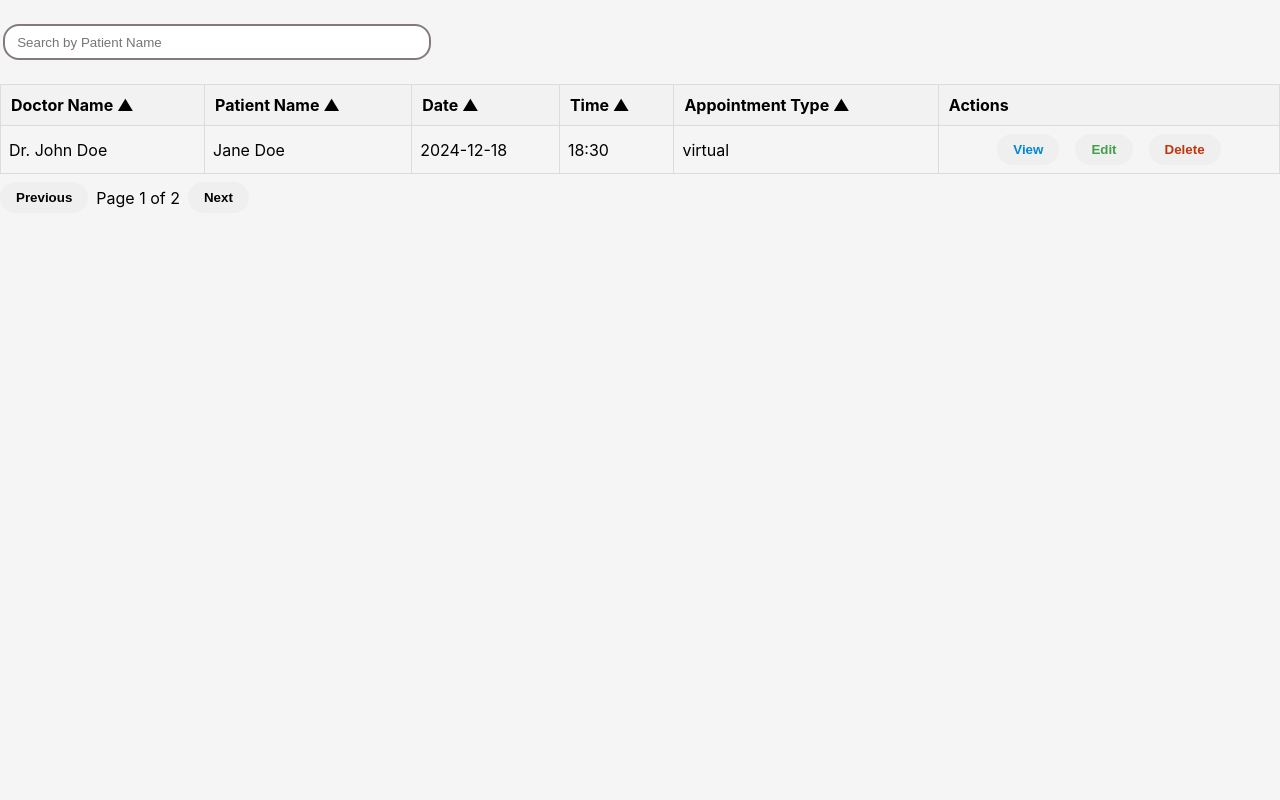
Scenario: ReusableTable Component › should open Edit Appointment modal when "Edit" button is clicked
Click the button "Edit": (1104,150) [1075, 134, 1133, 165]
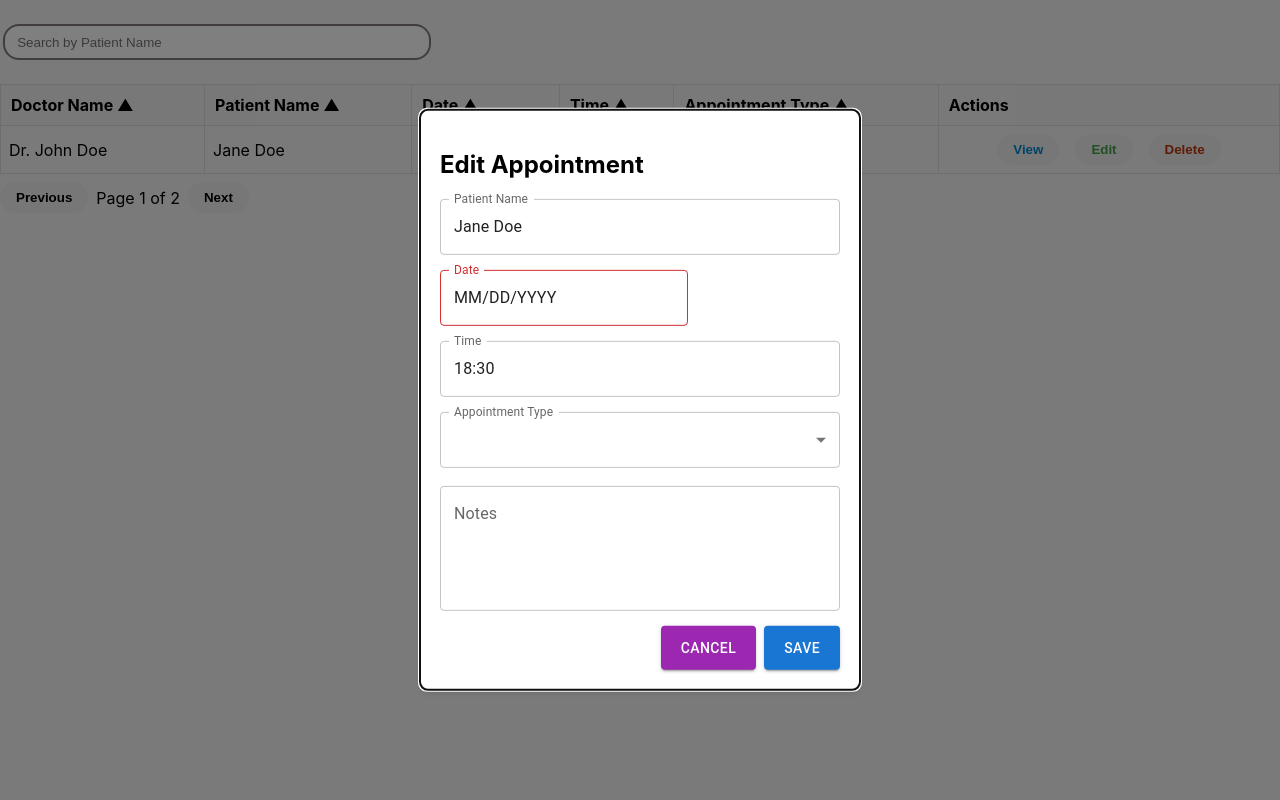
expect the heading "Edit Appointment" is shown: met, box [440, 150, 644, 179]
